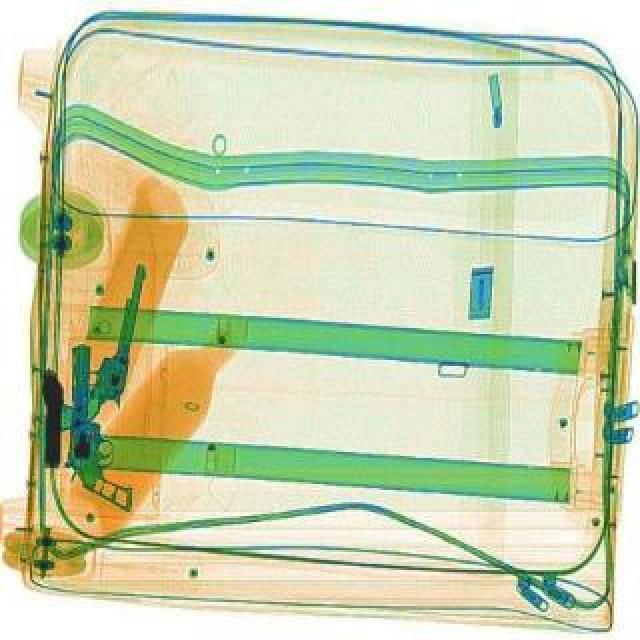gun: (26, 336, 148, 528), (72, 258, 164, 420), (32, 372, 68, 468)
